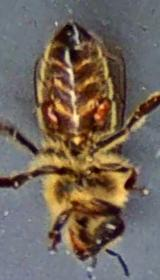varroa_mite: (37, 93, 64, 132), (88, 96, 116, 125)
